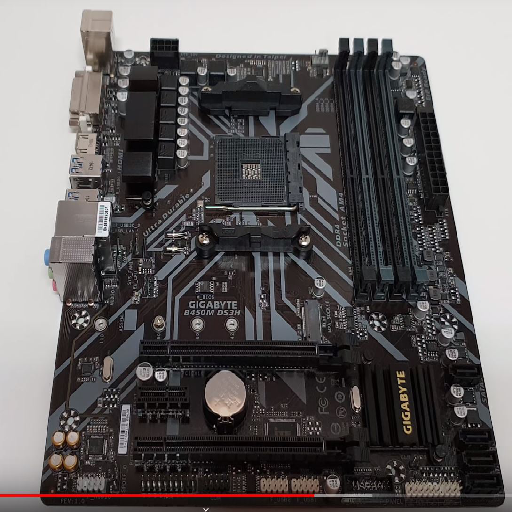CPU: (200, 120, 305, 226)
GPU: (133, 426, 372, 468), (138, 335, 365, 373)
MOTHERBOARD: (37, 35, 506, 507)
RAM: (333, 37, 432, 305)
SSD: (298, 297, 323, 342)
